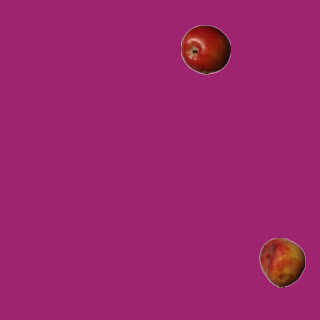Apple Braeburn: (180, 24, 230, 74)
Peach: (257, 237, 307, 287)
